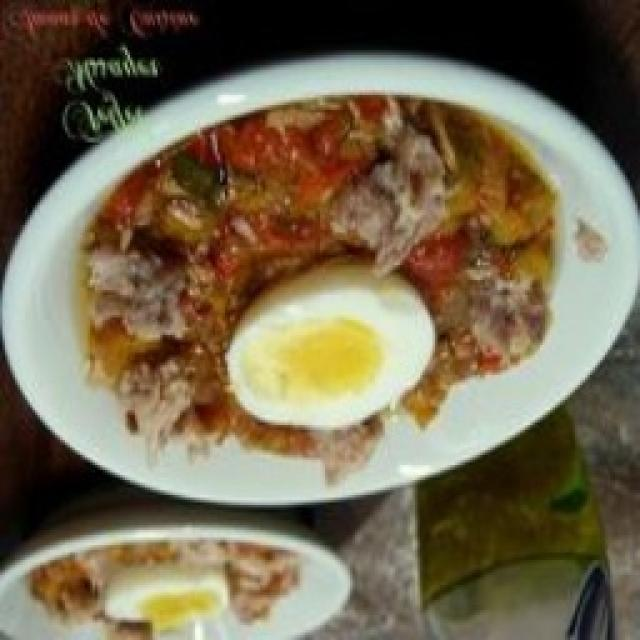Salade mechweya: (82, 90, 555, 472)
